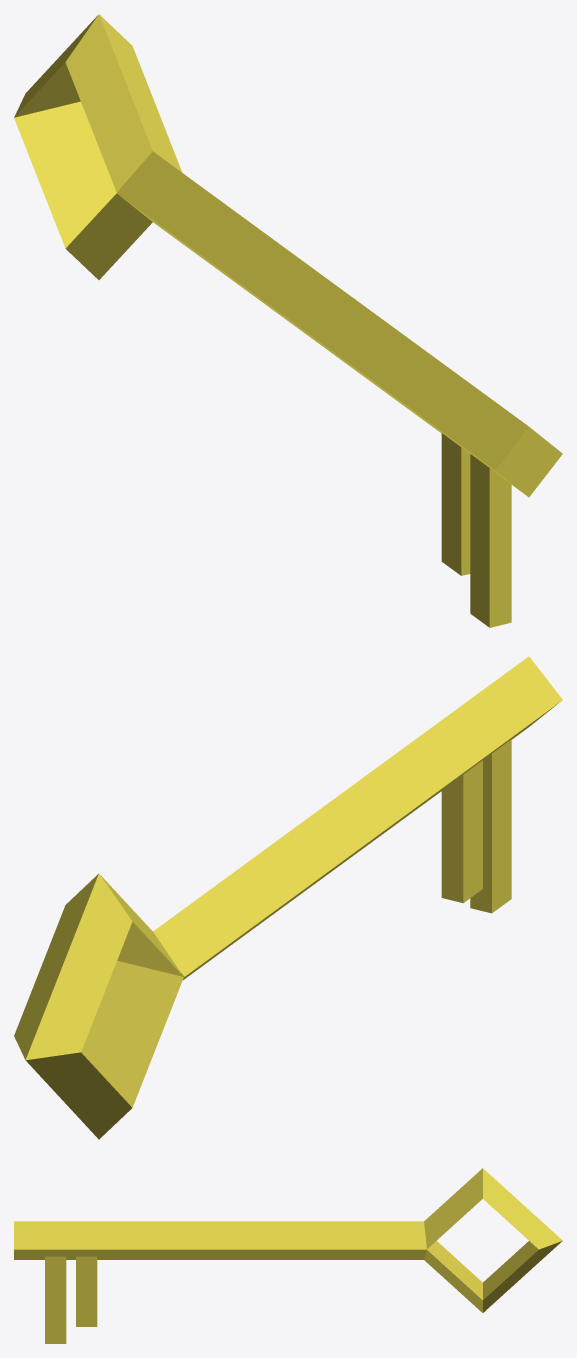
The model's file is key.fbx.
The picture shows the model from 3 angles, top to bottom: view 1: azimuth 30°, elevation 25°; view 2: azimuth 150°, elevation 25°; view 3: azimuth 270°, elevation 25°; orthographic projection. The views are drawn at different scales.
Visible parts, largest first — view 1: Cube.004; view 2: Cube.004; view 3: Cube.004.
Part boxes in pixels (x1=…): Cube.004: x1=14, y1=14, x2=562, y2=627; Cube.004: x1=14, y1=656, x2=562, y2=1139; Cube.004: x1=14, y1=1168, x2=562, y2=1343.
Size of the model in its own units: 1.64 by 7.32 by 21.07.
